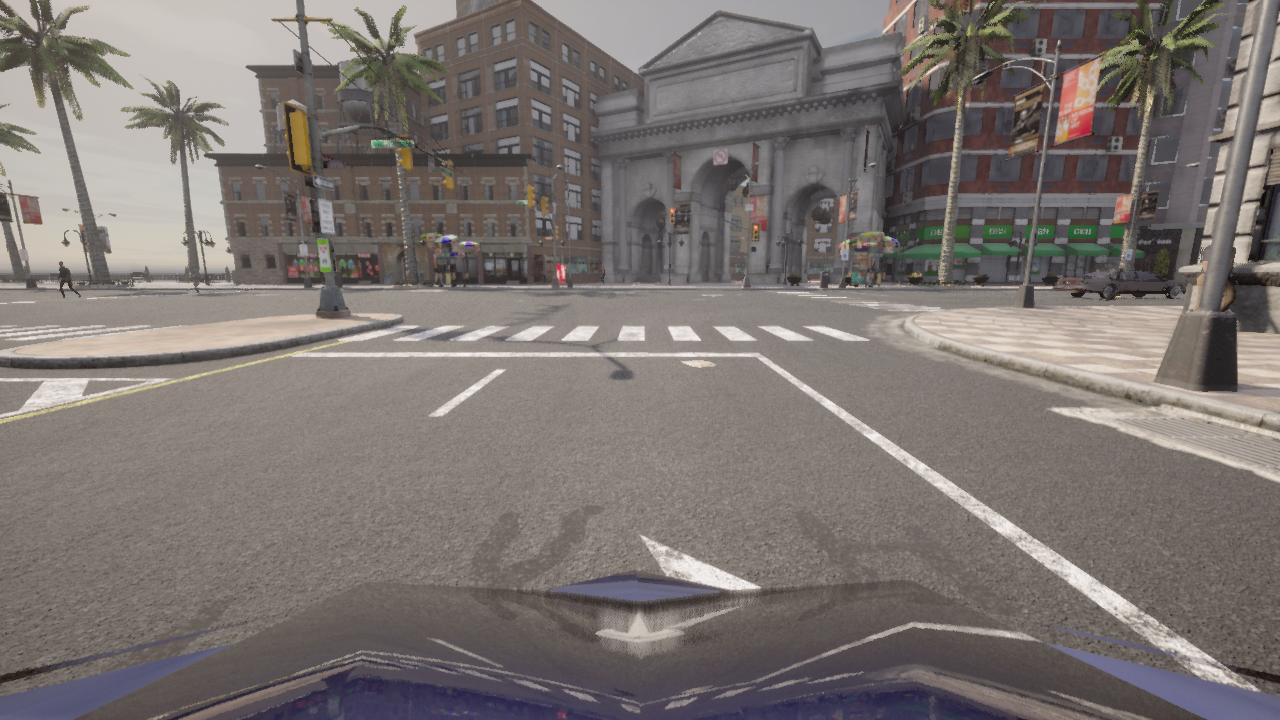cyclist: (0, 569, 1279, 719), (1052, 269, 1187, 299)
pedestrian: (1191, 233, 1236, 312), (56, 260, 81, 298), (192, 273, 200, 294), (599, 264, 605, 285)
